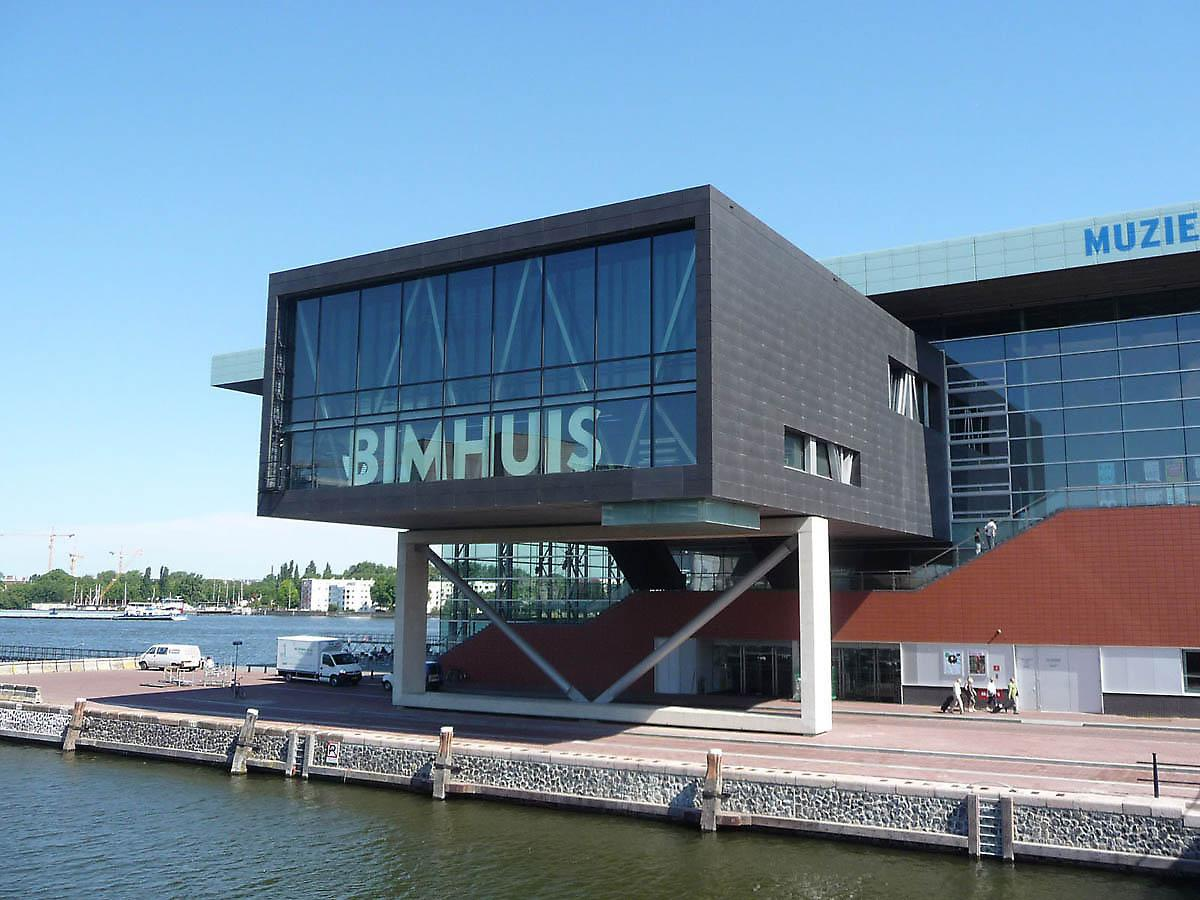affected: (229, 200, 1200, 784)
